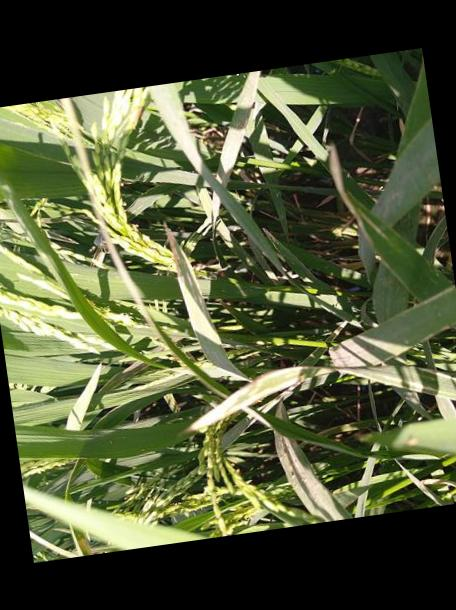Leaf Blight: (327, 140, 374, 230)
Leaf Streak: (165, 217, 241, 376), (96, 360, 148, 395)
